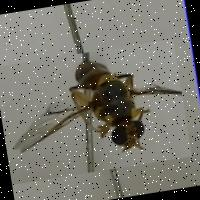Oriental-fruit-fly: (0, 39, 192, 185)
